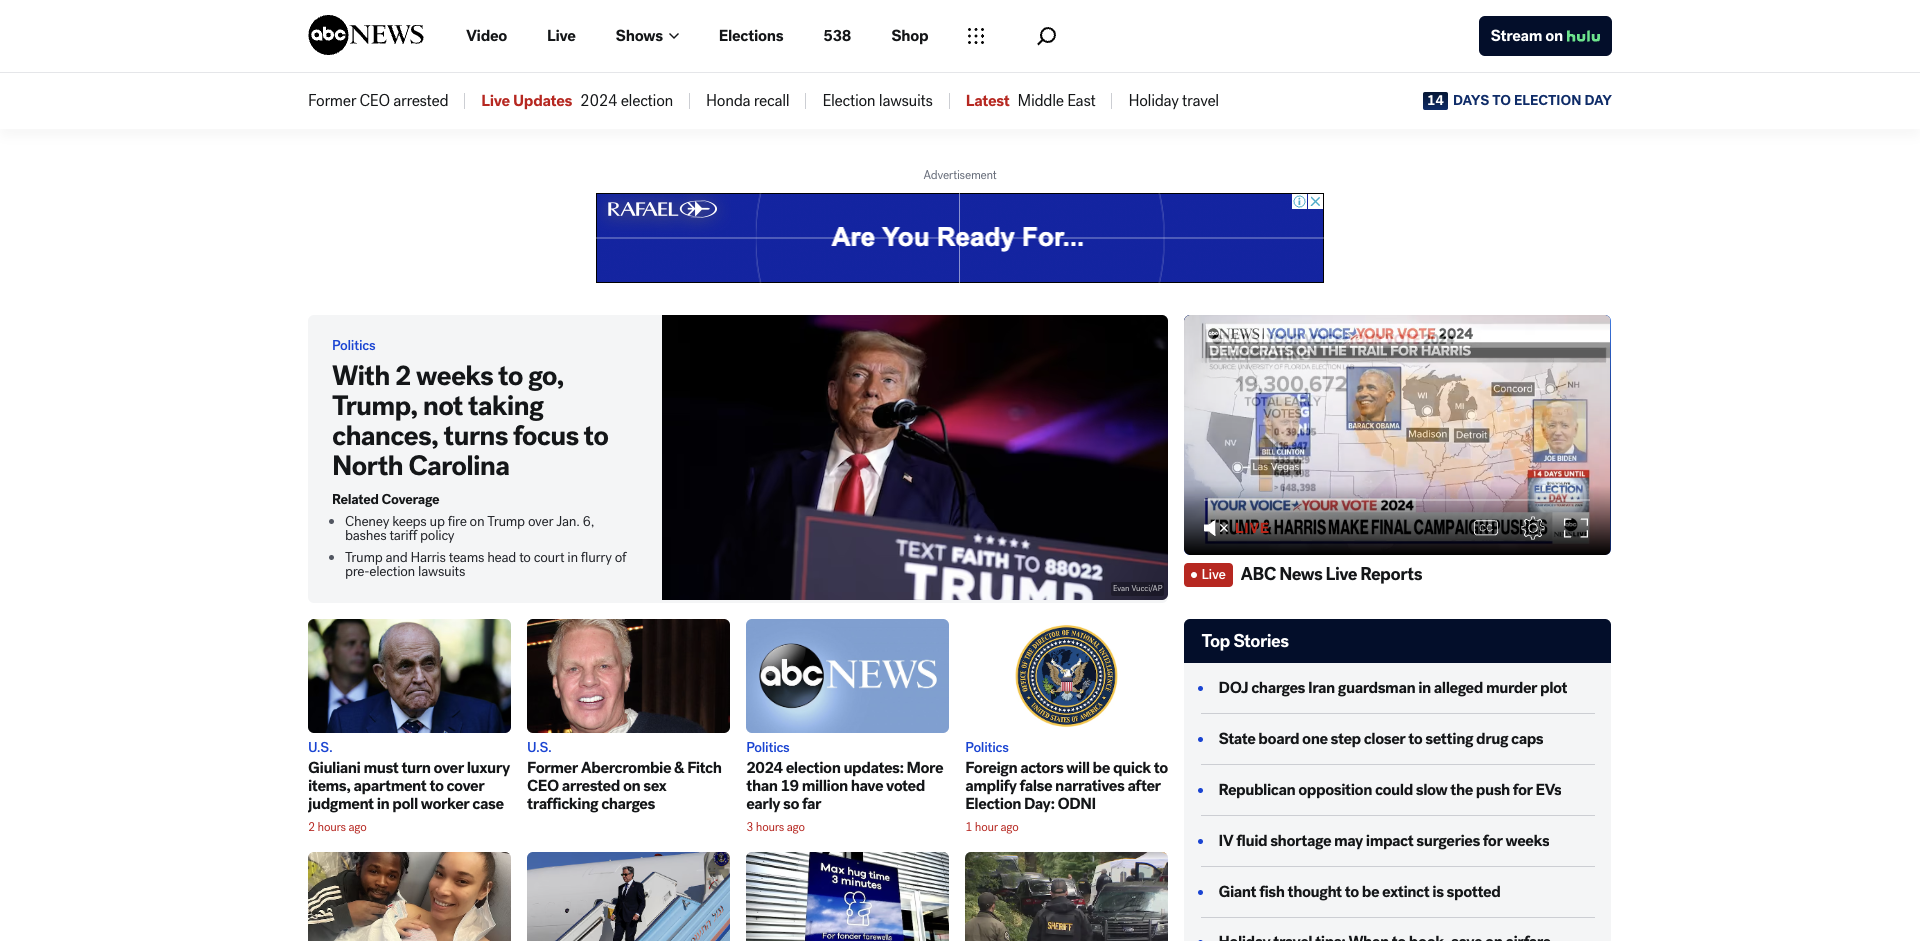button: (1037, 27, 1057, 45)
dropdown: (604, 16, 691, 56), (666, 16, 691, 56)
icon: (1026, 16, 1068, 56)
link: (662, 225, 1168, 513), (332, 271, 638, 391), (527, 529, 730, 643), (746, 619, 949, 733), (965, 619, 1168, 733), (309, 529, 511, 643), (527, 852, 730, 941), (746, 852, 949, 941), (965, 852, 1168, 941), (309, 852, 511, 941), (527, 760, 730, 814), (746, 760, 949, 814), (965, 760, 1168, 814), (309, 669, 511, 723), (345, 458, 626, 491), (345, 421, 594, 455), (1218, 679, 1567, 697), (1218, 780, 1561, 799), (1218, 832, 1549, 850), (1218, 730, 1543, 749), (1478, 16, 1611, 56), (309, 12, 424, 58), (1218, 882, 1500, 901), (1240, 474, 1422, 495), (707, 16, 795, 56), (604, 16, 691, 56), (454, 16, 519, 56), (879, 16, 940, 56), (1218, 934, 1550, 941), (309, 93, 448, 109), (535, 16, 588, 56), (812, 16, 863, 56), (823, 93, 933, 109), (956, 17, 997, 55), (580, 93, 673, 109), (1129, 93, 1218, 109), (707, 93, 790, 109), (1018, 93, 1096, 109), (332, 249, 376, 263), (746, 741, 790, 755), (965, 741, 1009, 755), (309, 652, 333, 665), (527, 652, 551, 665)
